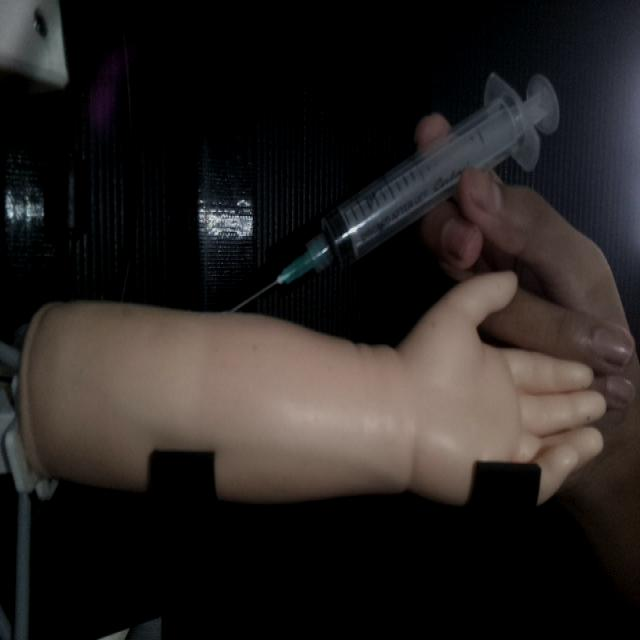Above 30 degrees: (225, 66, 561, 314)
